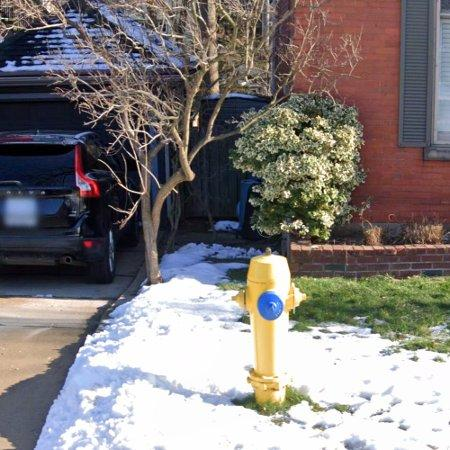a fire hydrant: (233, 251, 306, 404)
